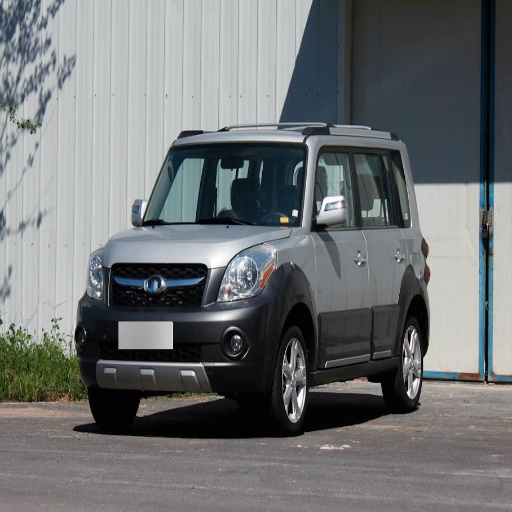front_bumper: (76, 244, 283, 391)
front_glass: (135, 144, 307, 224)
front_left_door: (311, 142, 371, 363)
